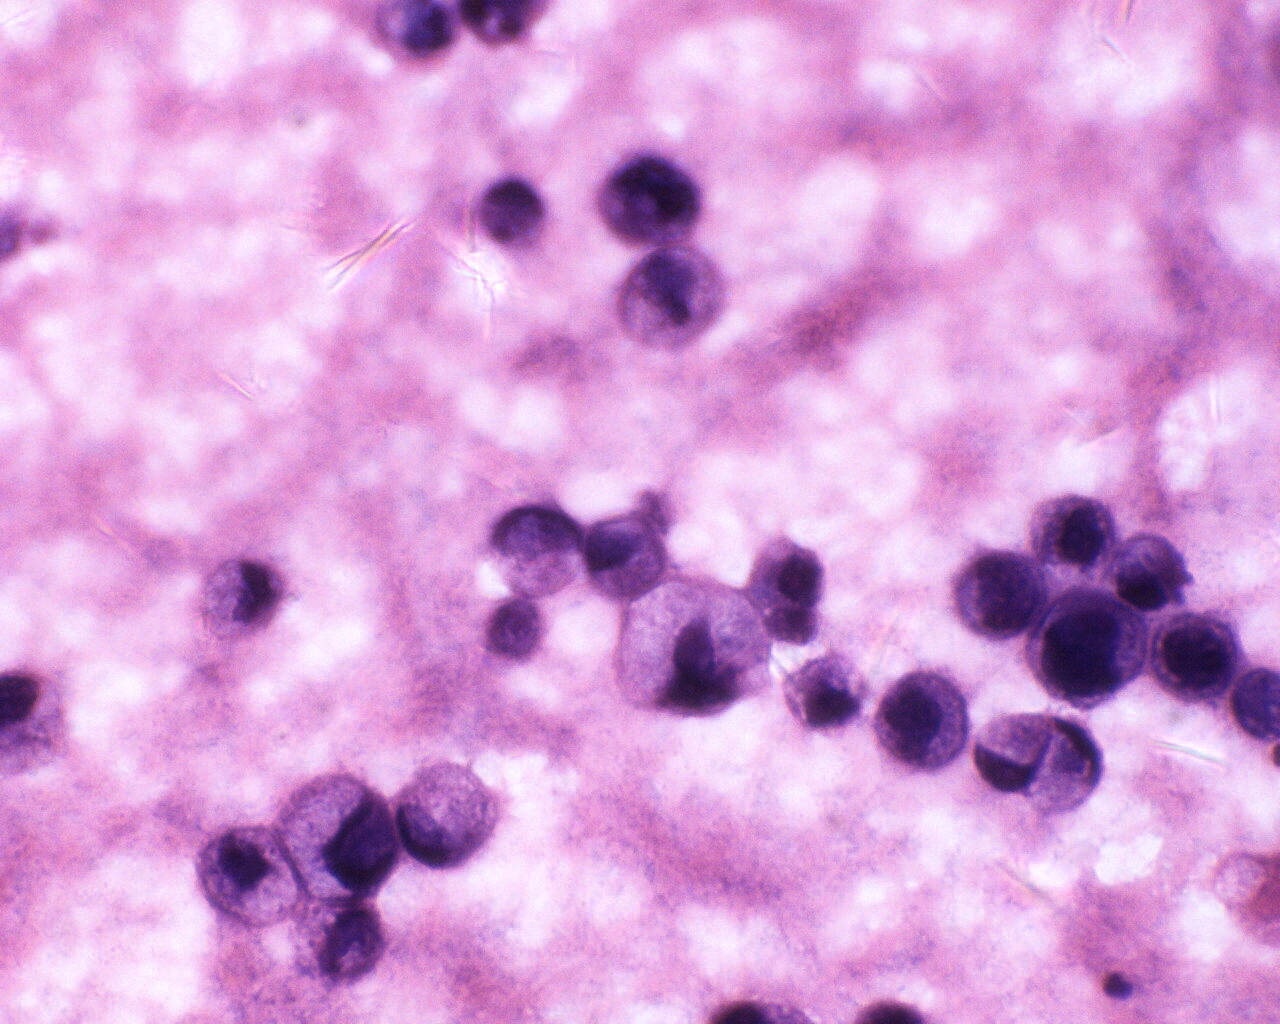ab: (278, 767, 399, 910), (1027, 582, 1151, 705), (879, 665, 973, 774), (1153, 606, 1244, 707), (955, 539, 1044, 644), (1028, 487, 1115, 578)
histo: (394, 759, 501, 870)
